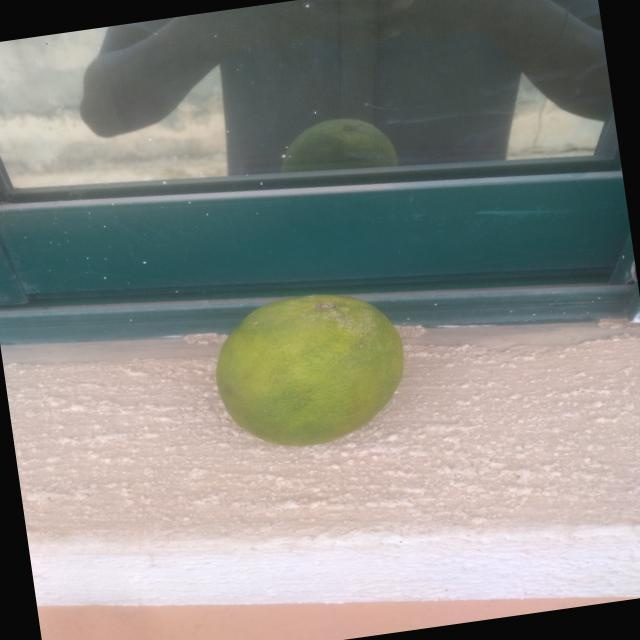agrume: (182, 264, 450, 487)
